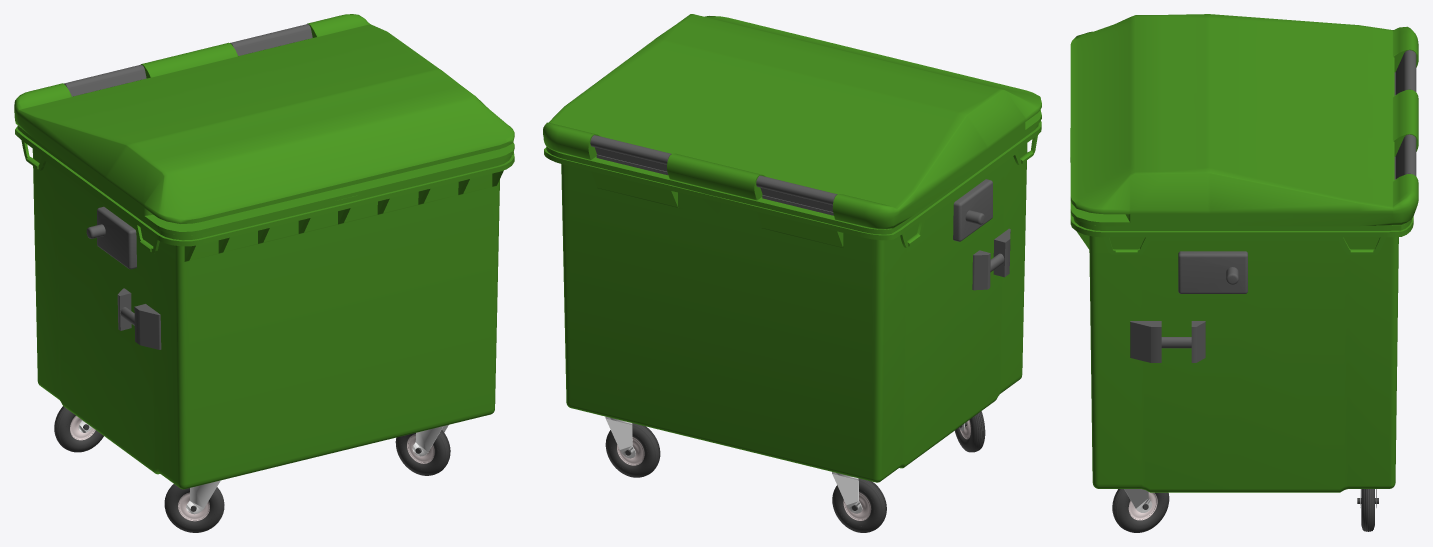
File: Dumpster 800L.fbx
3 renders of one model, left to right at view 1: azimuth 30°, elevation 25°; view 2: azimuth 150°, elevation 25°; view 3: azimuth 270°, elevation 25°, orthographic. The views are drawn at different scales.
Visible parts, largest first — view 1: BOX, Top__P_axis_oº_to__253º_, BOX_2, Truck_conections_2, Truck_conections, Torus_1_4, Torus_1_2, Torus_1_3, Polygon_4; view 2: BOX, Top__P_axis_oº_to__253º_, BOX_2, Truck_conections_2, Torus_1, Torus_1_3, Truck_conections, Torus_1_4, Polygon, Polygon_3; view 3: BOX, Top__P_axis_oº_to__253º_, Truck_conections_2, Truck_conections, BOX_2, Torus_1_2, Torus_1, Polygon_2.
Boxes of the visible parts, x1,y1,x2,y2 form: BOX: (15,125,514,489); Top__P_axis_oº_to__253º_: (14,14,514,235); BOX_2: (64,24,312,96); Truck_conections_2: (86,206,136,269); Truck_conections: (117,288,161,349); Torus_1_4: (164,484,224,532); Torus_1_2: (395,429,450,475); Torus_1_3: (54,406,103,452); Polygon_4: (186,480,220,514); BOX: (544,121,1041,482); Top__P_axis_oº_to__253º_: (543,14,1041,229); BOX_2: (590,135,837,215); Truck_conections_2: (953,179,992,241); Torus_1: (605,423,660,477); Torus_1_3: (832,478,886,532); Truck_conections: (972,228,1010,290); Torus_1_4: (955,411,985,452); Polygon: (605,416,635,458); Polygon_3: (832,472,862,513); BOX: (1070,128,1413,492); Top__P_axis_oº_to__253º_: (1070,14,1418,226); Truck_conections_2: (1178,251,1247,293); Truck_conections: (1130,321,1205,362); BOX_2: (1394,50,1416,179); Torus_1_2: (1112,489,1169,532); Torus_1: (1361,489,1374,531); Polygon_2: (1124,489,1152,512).
Size of what is drawn, in the model's own units: 138 by 133 by 109.
